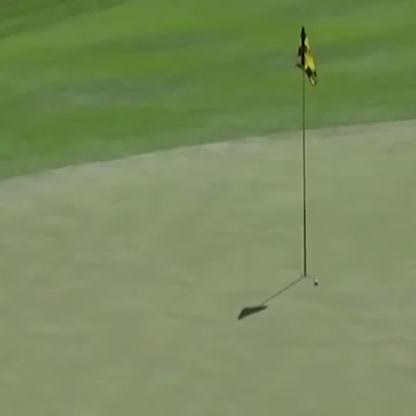golfball: (312, 273, 317, 283)
